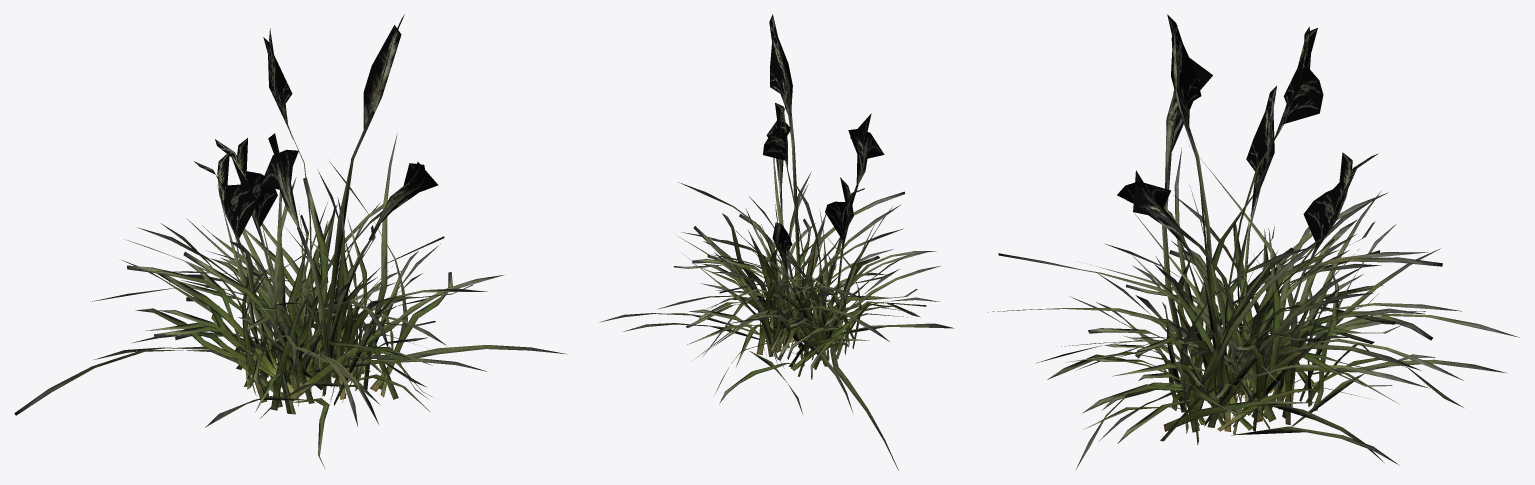
File: grass.glb
The picture shows the model from 3 angles, left to right: view 1: azimuth 30°, elevation 25°; view 2: azimuth 150°, elevation 25°; view 3: azimuth 270°, elevation 25°; orthographic projection. The views are drawn at different scales.
Visible parts, largest first — view 1: grass_medium_01_mid_a_LOD0; view 2: grass_medium_01_mid_a_LOD0; view 3: grass_medium_01_mid_a_LOD0.
Part boxes in pixels (x1,y1,x2,y2): grass_medium_01_mid_a_LOD0: (14, 14, 567, 468); grass_medium_01_mid_a_LOD0: (600, 14, 953, 470); grass_medium_01_mid_a_LOD0: (987, 14, 1519, 469).
Size of the model in its own units: 0.2156 by 0.2177 by 0.2214.
Materials: 1 (1 with a texture image).
